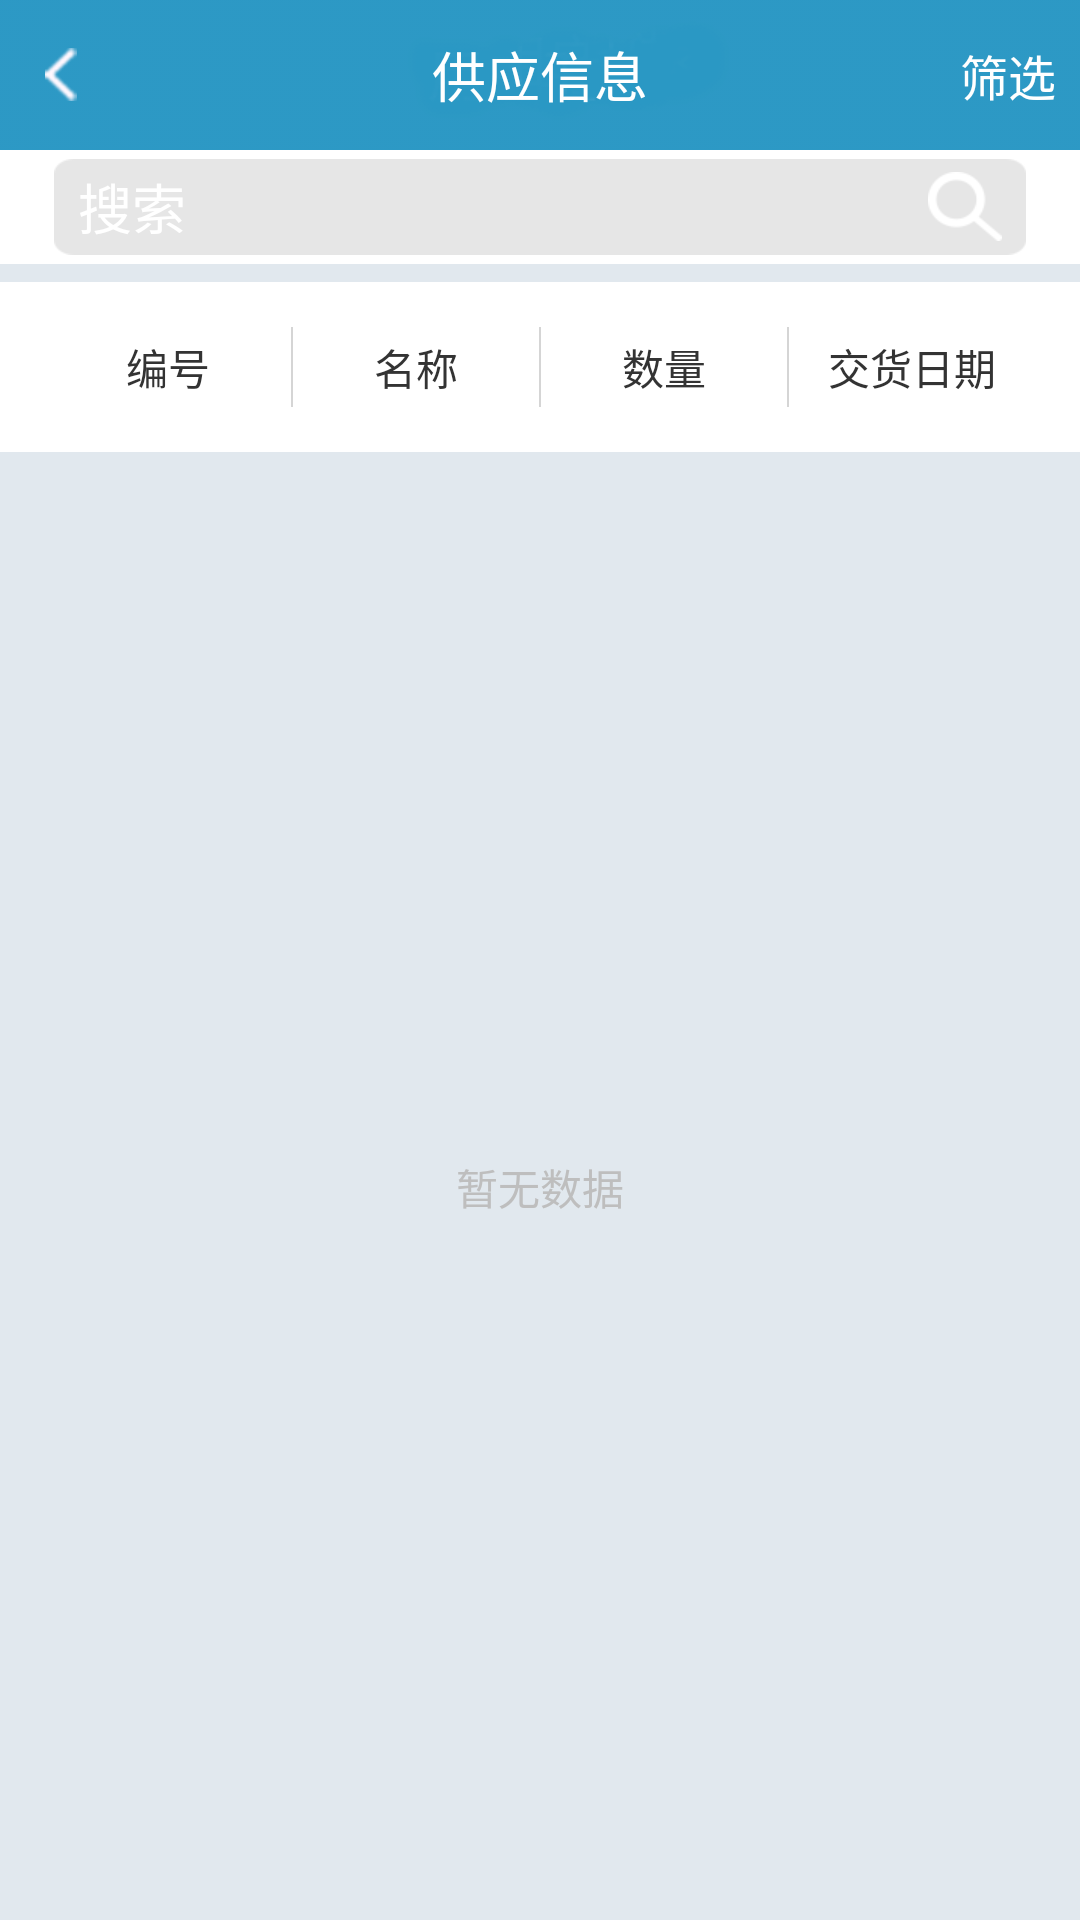

Icons on this 1080px x 1920px Android screen, each with the point to tap as (x=x, y=y):
back: (x=61, y=74)
